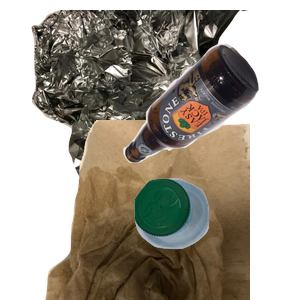glass: (120, 41, 300, 196)
metal: (29, 10, 269, 190)
plastic: (132, 176, 300, 300)
trash: (43, 120, 283, 300)
